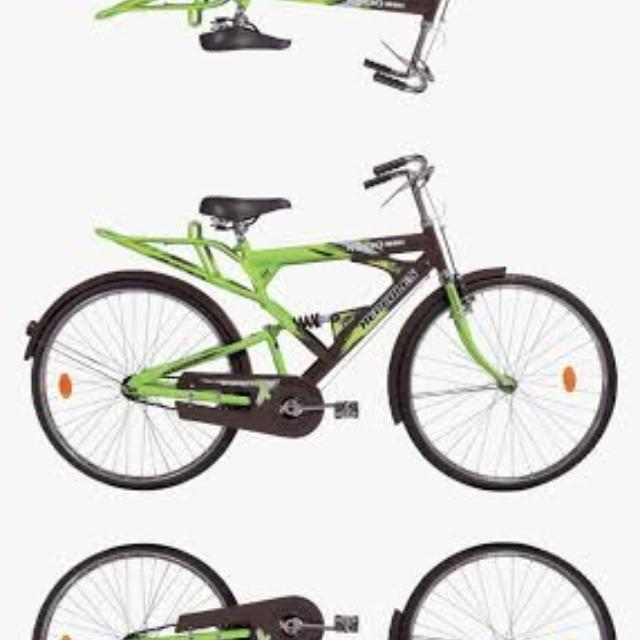obstacle: (13, 138, 633, 496), (13, 0, 633, 107), (13, 538, 633, 640)
